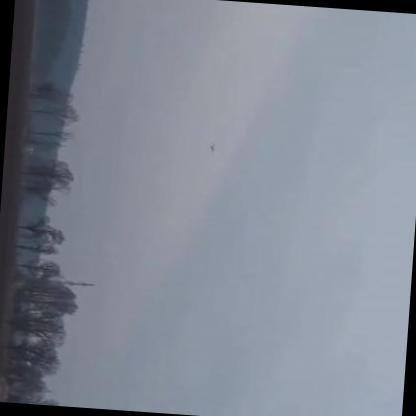plane: (204, 142, 219, 155)
